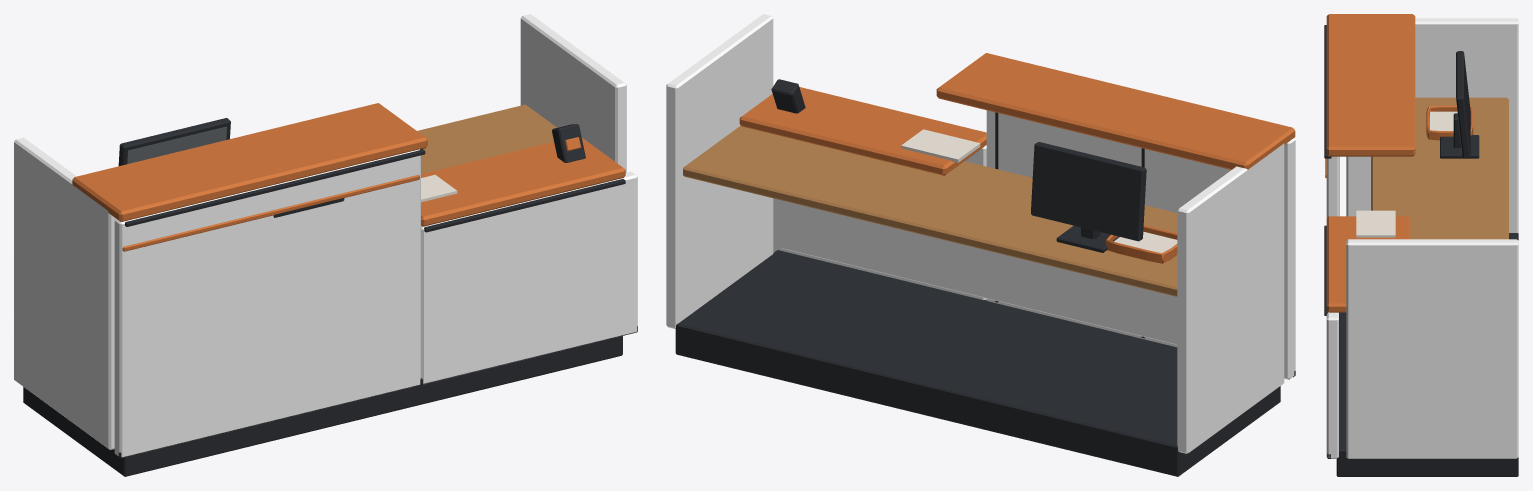
The model's file is desk-reception.glb.
3 renders of one model, left to right at view 1: azimuth 30°, elevation 25°; view 2: azimuth 150°, elevation 25°; view 3: azimuth 270°, elevation 25°, orthographic. The views are drawn at different scales.
Parts seen in each view (by area): view 1: desk-reception.tint, desk-reception.accent, desk-reception.graphite, desk-reception.wood, desk-reception.glass, desk-reception.paper; view 2: desk-reception.tint, desk-reception.graphite, desk-reception.accent, desk-reception.wood, desk-reception.paper; view 3: desk-reception.tint, desk-reception.accent, desk-reception.wood, desk-reception.graphite, desk-reception.paper.
Boxes of the visible parts, <box> form: desk-reception.tint: <box>14,14,637,457</box>; desk-reception.accent: <box>72,103,625,251</box>; desk-reception.graphite: <box>23,118,637,476</box>; desk-reception.wood: <box>417,104,556,173</box>; desk-reception.glass: <box>127,127,226,163</box>; desk-reception.paper: <box>421,174,457,202</box>; desk-reception.tint: <box>666,14,1295,453</box>; desk-reception.graphite: <box>675,79,1295,476</box>; desk-reception.accent: <box>739,53,1295,263</box>; desk-reception.wood: <box>683,125,1177,296</box>; desk-reception.paper: <box>901,129,1177,253</box>; desk-reception.tint: <box>1326,18,1518,458</box>; desk-reception.accent: <box>1325,14,1473,312</box>; desk-reception.wood: <box>1371,97,1508,239</box>; desk-reception.graphite: <box>1324,25,1518,476</box>; desk-reception.paper: <box>1356,111,1457,237</box>.
Bounding box in the file's own units: 2.2 × 1.1 × 0.8.
